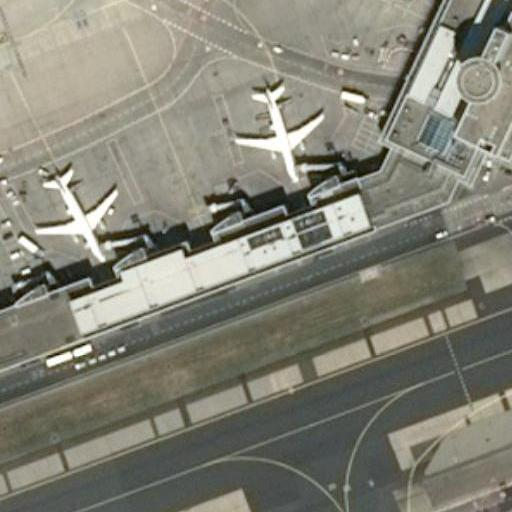Aircraft: (219, 75, 333, 191), (31, 153, 127, 273)
